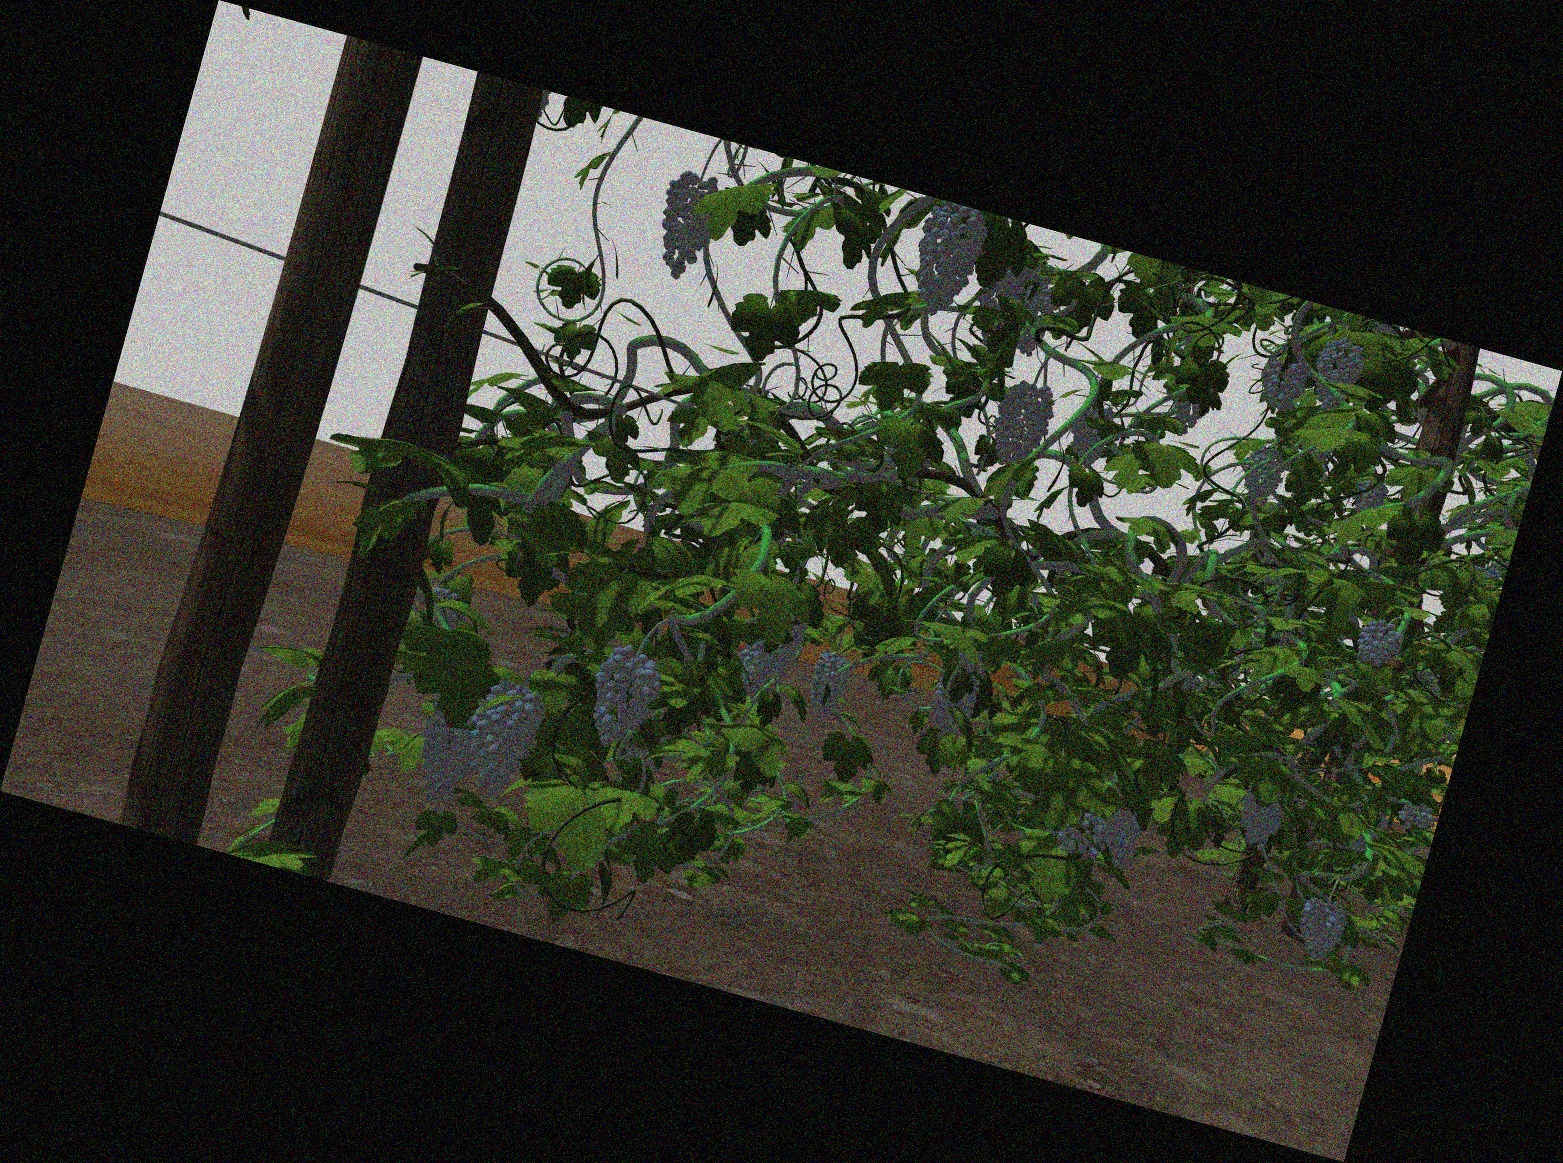grape: (591, 645, 661, 753), (469, 689, 537, 795), (916, 210, 981, 314), (658, 175, 720, 279), (994, 381, 1051, 472), (418, 713, 475, 801), (742, 614, 801, 698), (934, 658, 983, 739), (1314, 341, 1364, 409), (1297, 899, 1346, 965), (1068, 401, 1115, 464), (1239, 790, 1285, 854), (1258, 355, 1308, 410), (1237, 446, 1286, 500), (1103, 801, 1143, 864), (811, 655, 847, 721), (1059, 810, 1106, 860), (1359, 618, 1402, 667), (1399, 804, 1435, 836)
